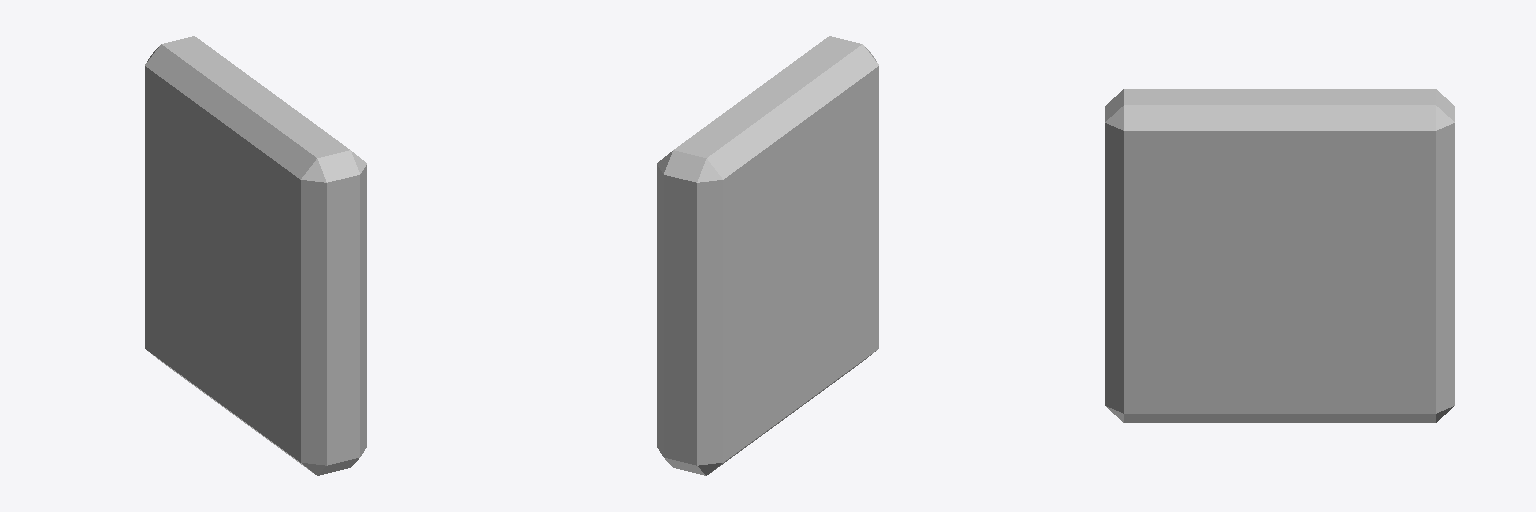
The model's file is DownstairsFix.obj.
The picture shows the model from 3 angles: view 1: azimuth 30°, elevation 25°; view 2: azimuth 150°, elevation 25°; view 3: azimuth 270°, elevation 25°; orthographic projection.
Visible parts, largest first — view 1: pCube2; view 2: pCube2; view 3: pCube2.
Part boxes in pixels (bbox=[...]): pCube2: bbox=[145, 36, 366, 475]; pCube2: bbox=[657, 36, 878, 475]; pCube2: bbox=[1105, 89, 1454, 422].
Size of the model in its own units: 0.6673 by 3.04 by 3.04.